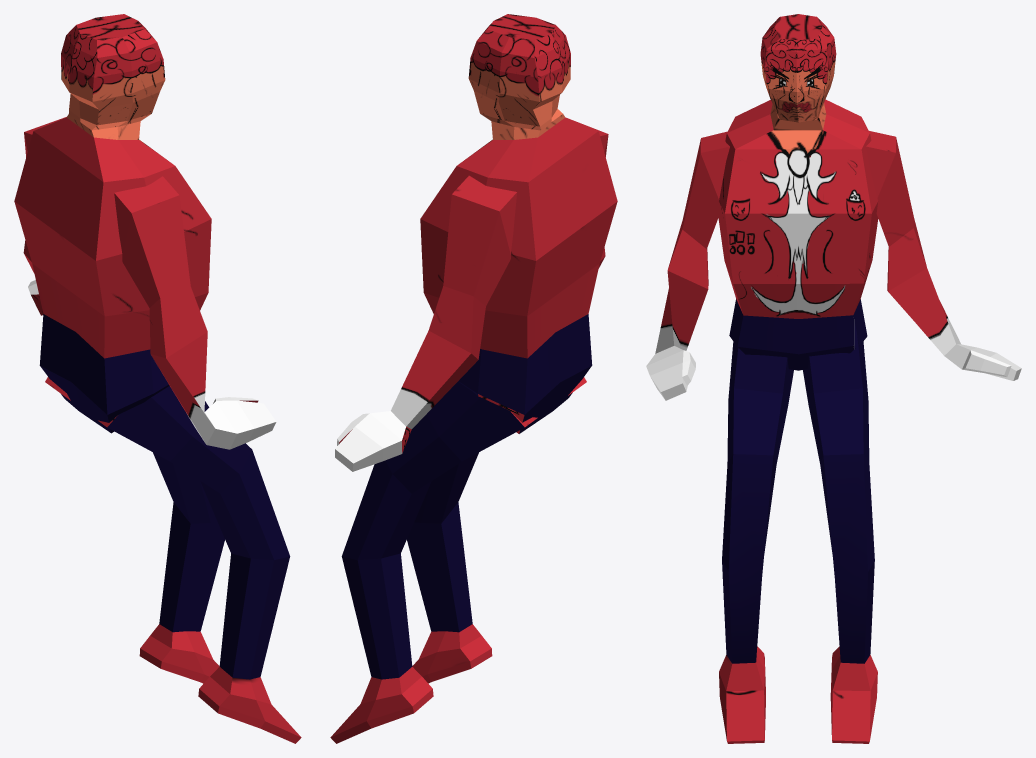
File: AssisSurDossierDeFauteuilfbx.fbx
The picture shows the model from 3 angles, left to right: view 1: azimuth 30°, elevation 25°; view 2: azimuth 150°, elevation 25°; view 3: azimuth 270°, elevation 25°; orthographic projection. The views are drawn at different scales.
Visible parts, largest first — view 1: Cube.001; view 2: Cube.001; view 3: Cube.001.
Boxes of the visible parts, x1,y1,x2,y2 form: Cube.001: [14, 14, 301, 743]; Cube.001: [330, 14, 617, 743]; Cube.001: [646, 14, 1021, 743].
Bounding box in the file's own units: 128 × 426 × 222.
